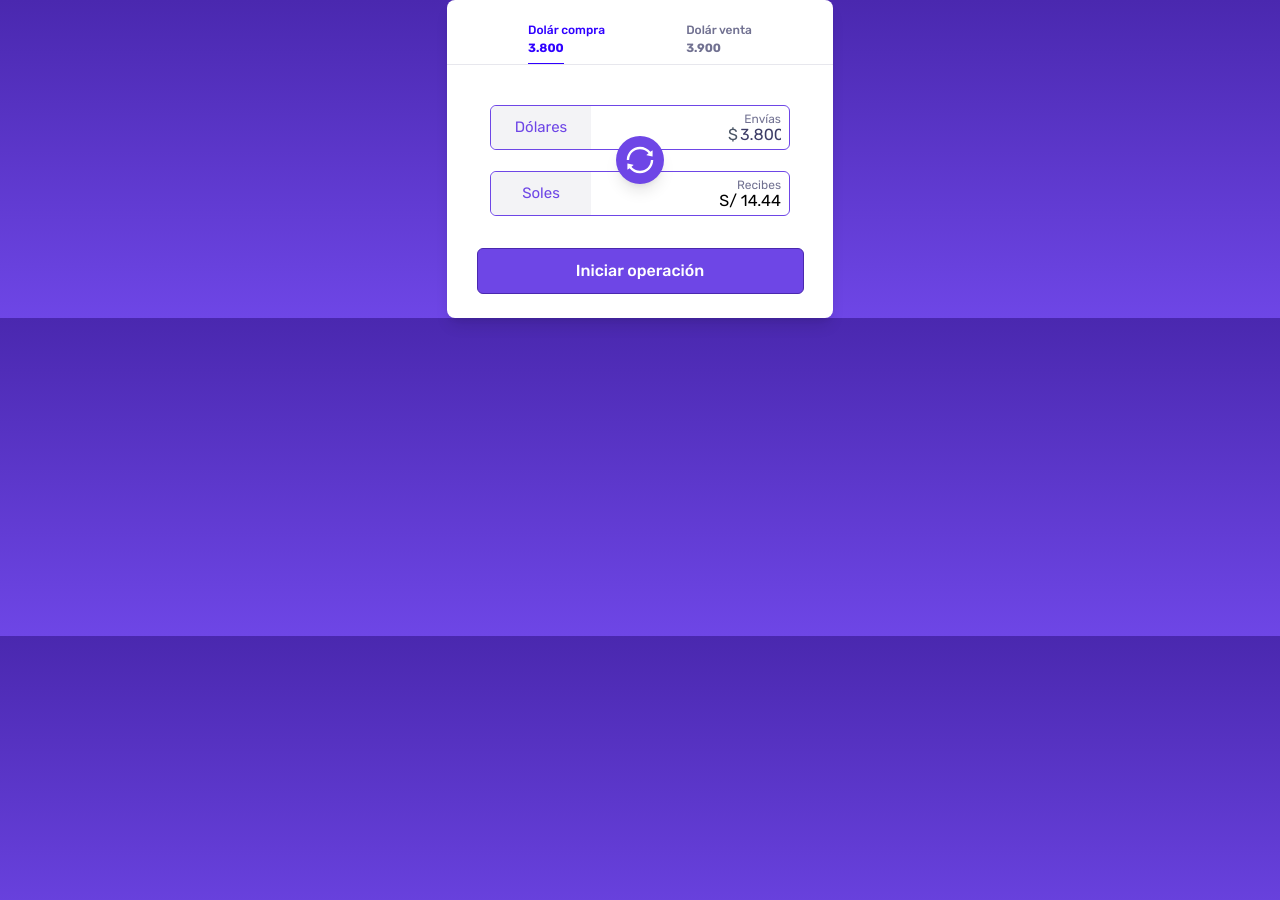
Test case: CurrencyConverter.vue › debe intercambiar correctamente entre monedas
Expected: the text "Dólares" is shown, [491, 106, 591, 149]
Expected: the text "Soles" is shown, [491, 172, 591, 215]
Click the button with class "rotate-custom".
click(640, 160)  # box [616, 136, 664, 184]
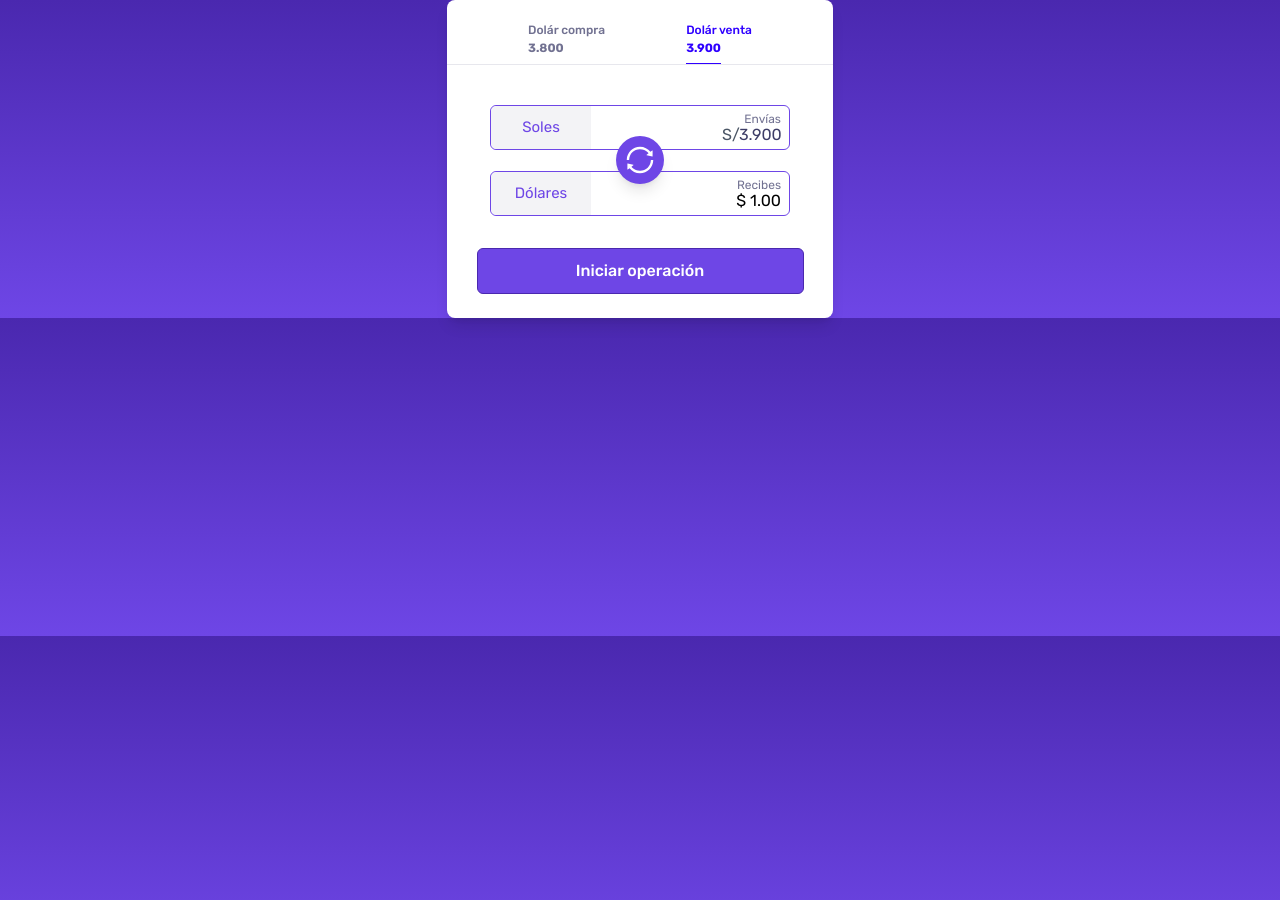
Expected: the text "Envías" is shown, [744, 112, 781, 126]
Now the text "Soles" is shown, box [491, 106, 591, 149]
Now the text "Dólares" is shown, box [491, 172, 591, 215]
